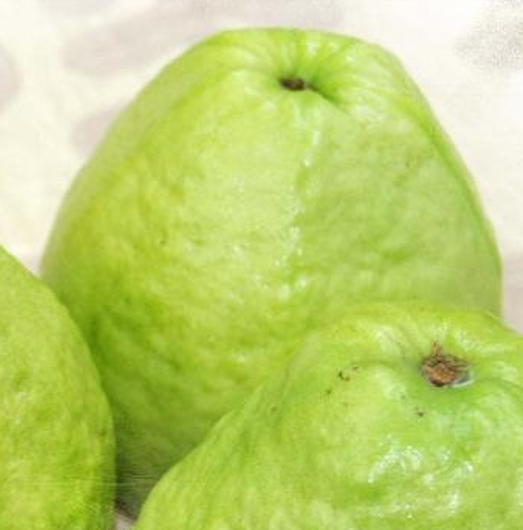guava_A: (39, 28, 503, 518)
